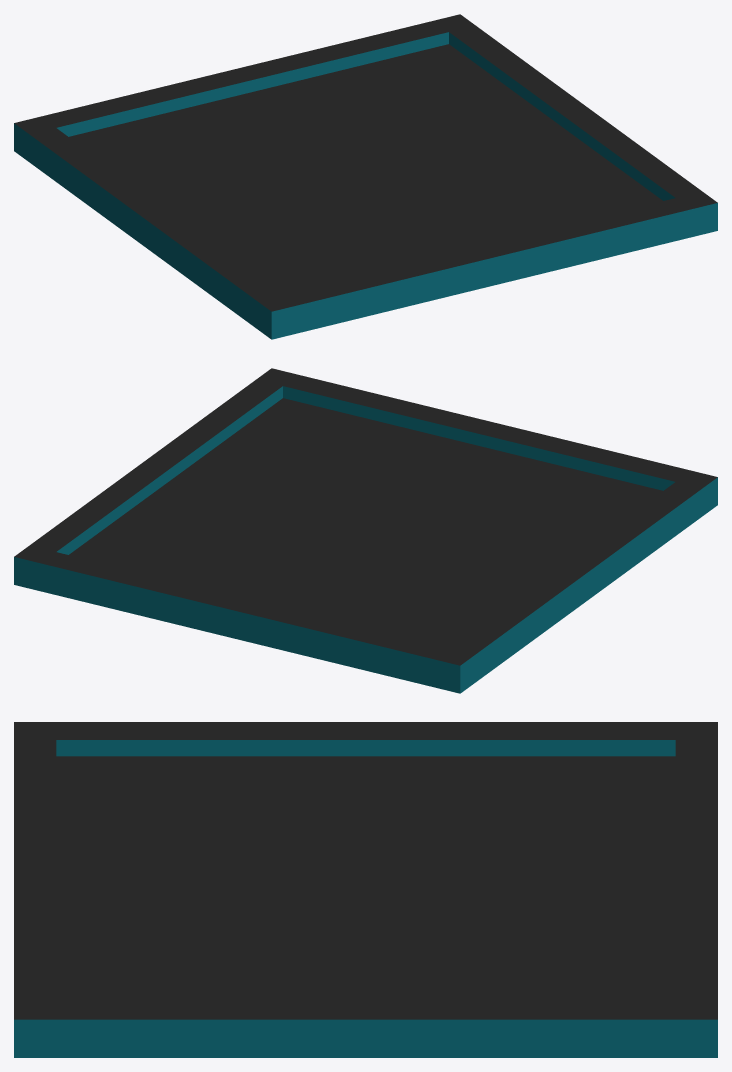
Rendered from tileholder.gltf.
3 views of the same model, one above another, from view 1: azimuth 30°, elevation 25°; view 2: azimuth 150°, elevation 25°; view 3: azimuth 270°, elevation 25° (orthographic). The views are drawn at different scales.
Visible parts, largest first — view 1: cuboid; view 2: cuboid; view 3: cuboid.
Part boxes in pixels (x1=…): cuboid: x1=14, y1=14, x2=717, y2=339; cuboid: x1=14, y1=368, x2=717, y2=693; cuboid: x1=14, y1=722, x2=717, y2=1057.
Size of the model in its own units: 0.0625 by 0.00375 by 0.0625.
1 material, 1 textured.
